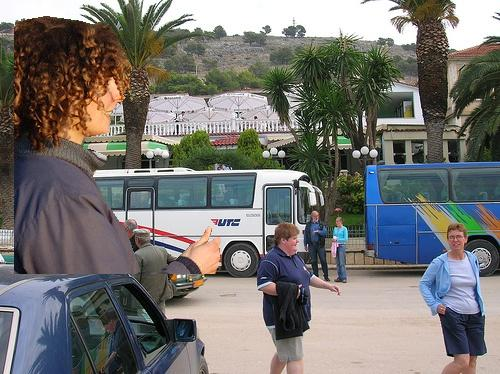tampered: (15, 17, 221, 274)
